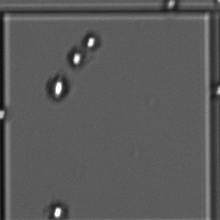Living Cell: (43, 73, 74, 109), (44, 197, 71, 220), (67, 45, 85, 70), (85, 32, 102, 51), (1, 107, 12, 127)
